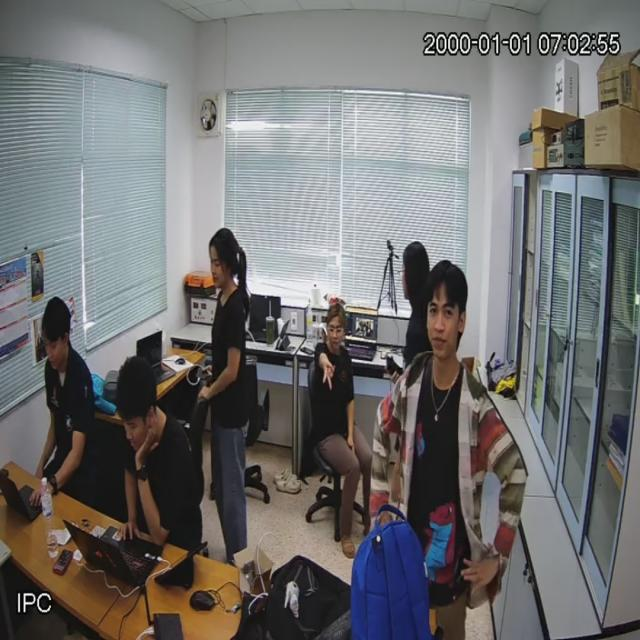normal: (387, 252, 496, 640), (118, 354, 200, 550), (312, 301, 371, 550), (205, 228, 250, 545), (30, 300, 95, 503)
